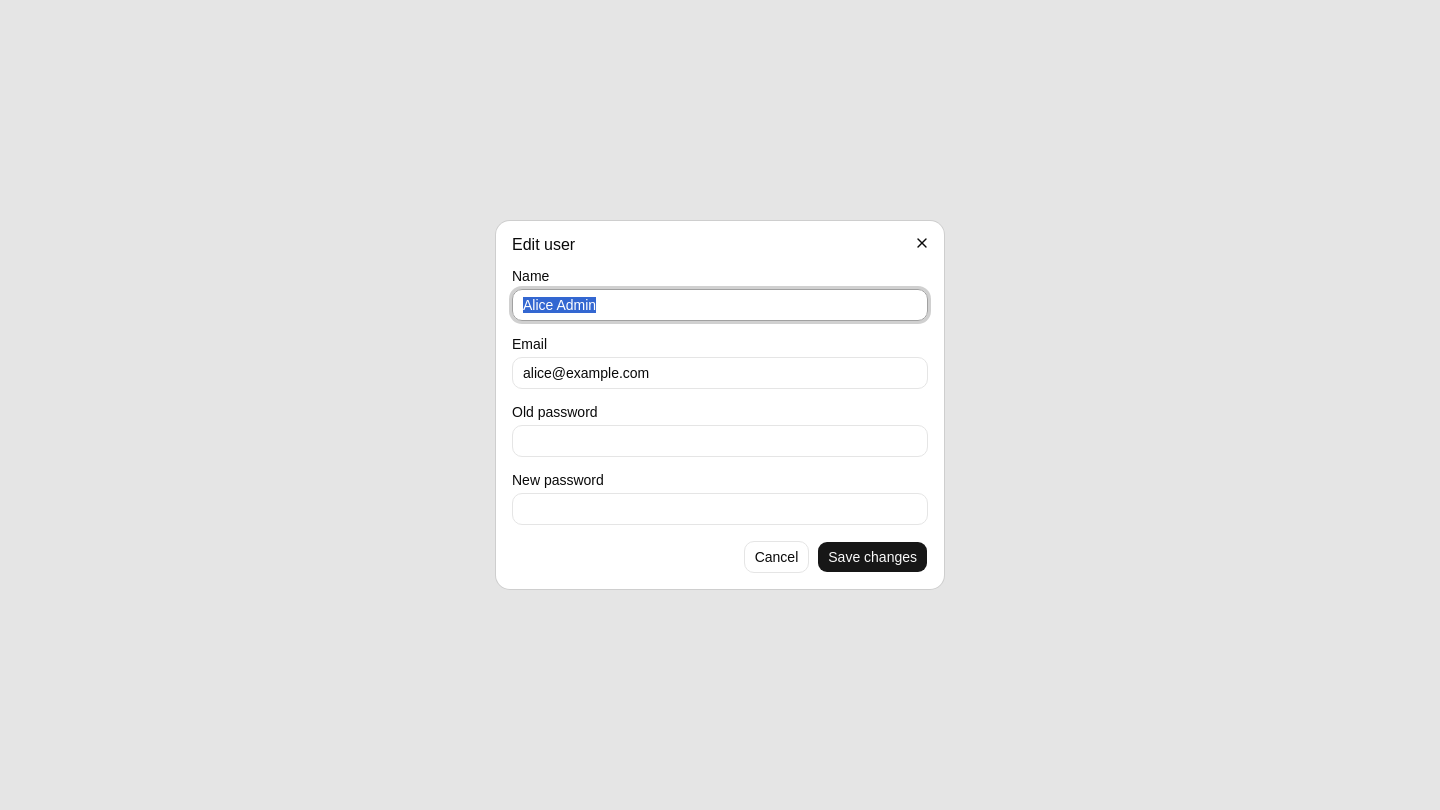
EditUserDialog › shows validation error when old password is filled but new password is empty
Type "oldpassword" into the password field labelled "Old password" at (720, 441), box [512,425,928,457]
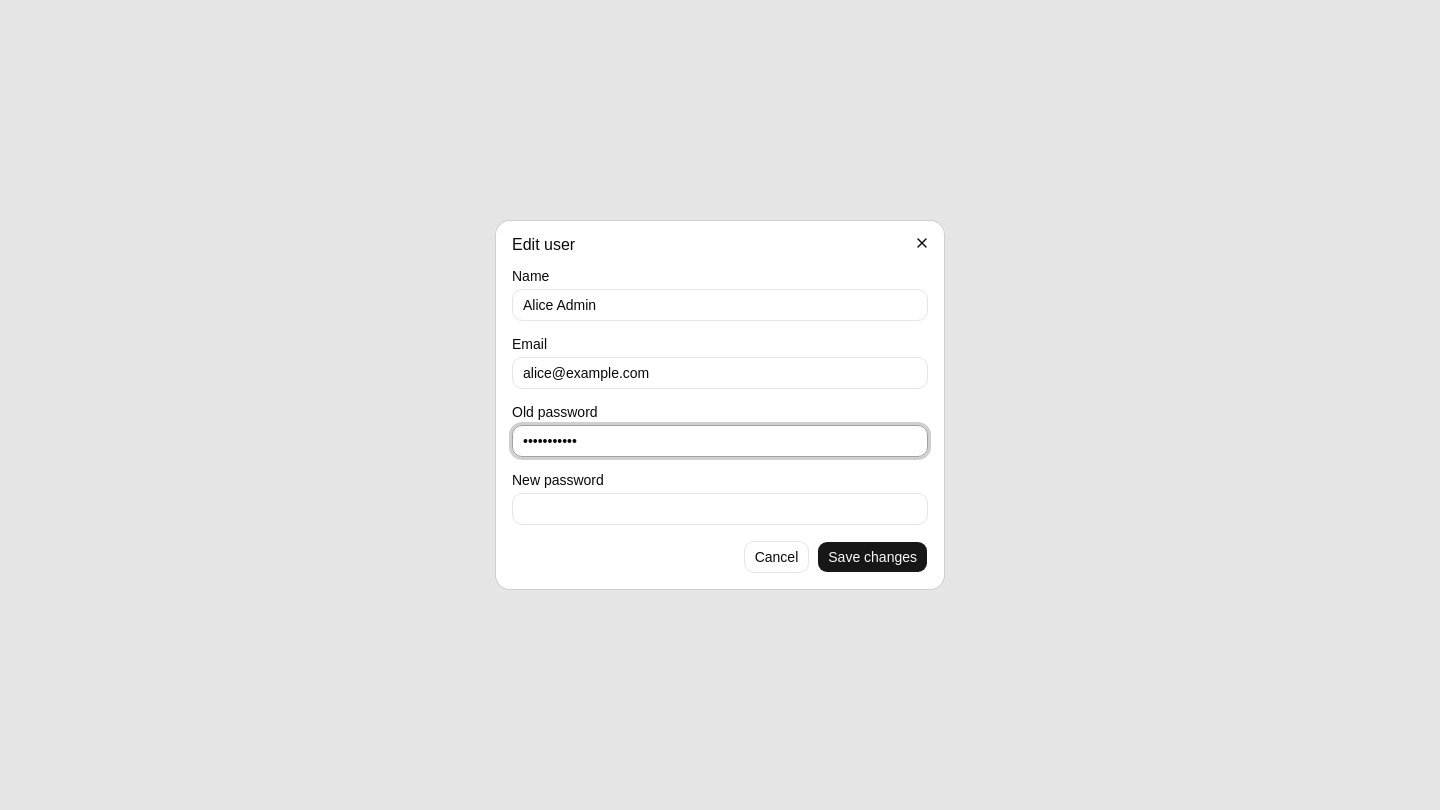
Click the button "Save changes" at (873, 557), box [817,541,928,573]
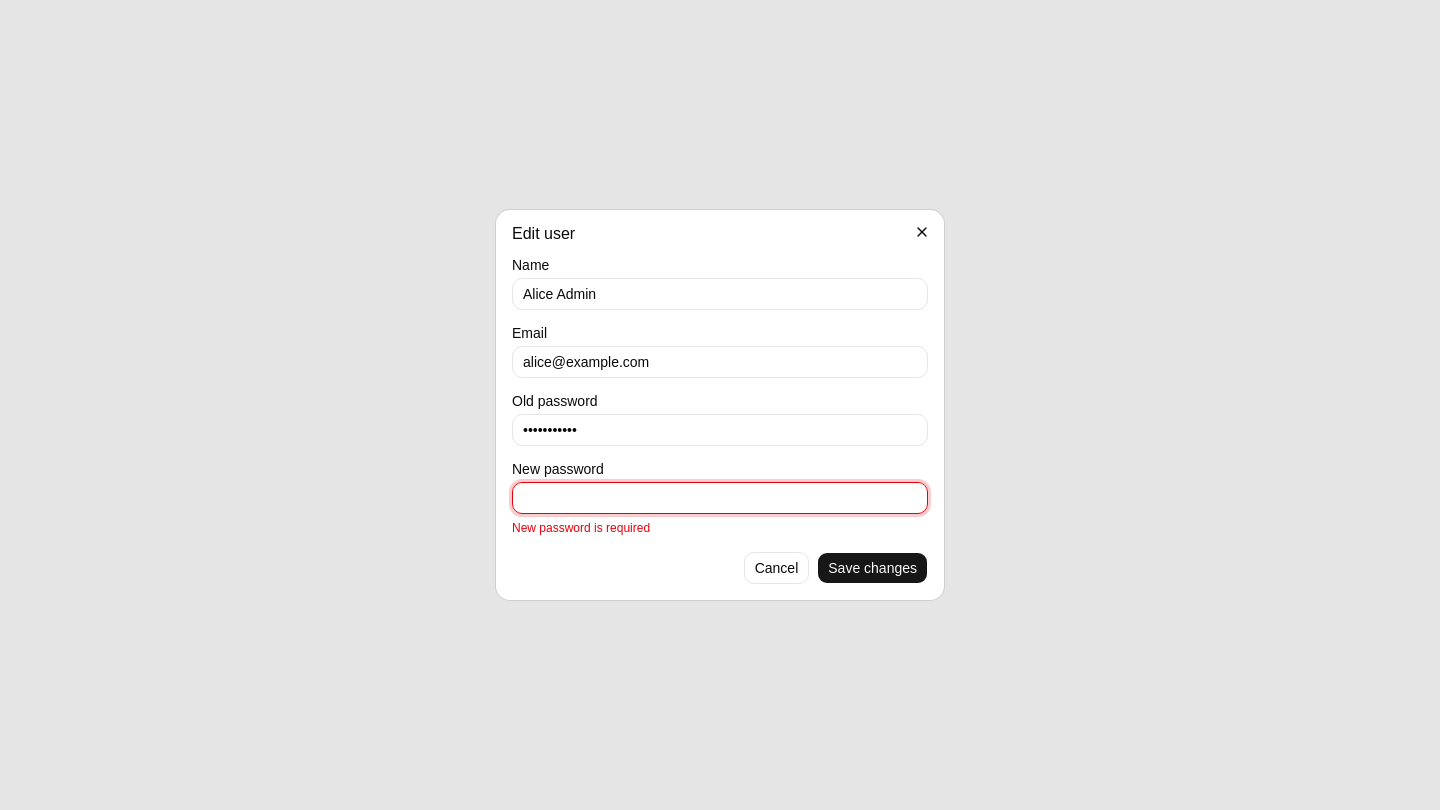
Expected: the text "New password is required" is shown, [512,521,650,535]
